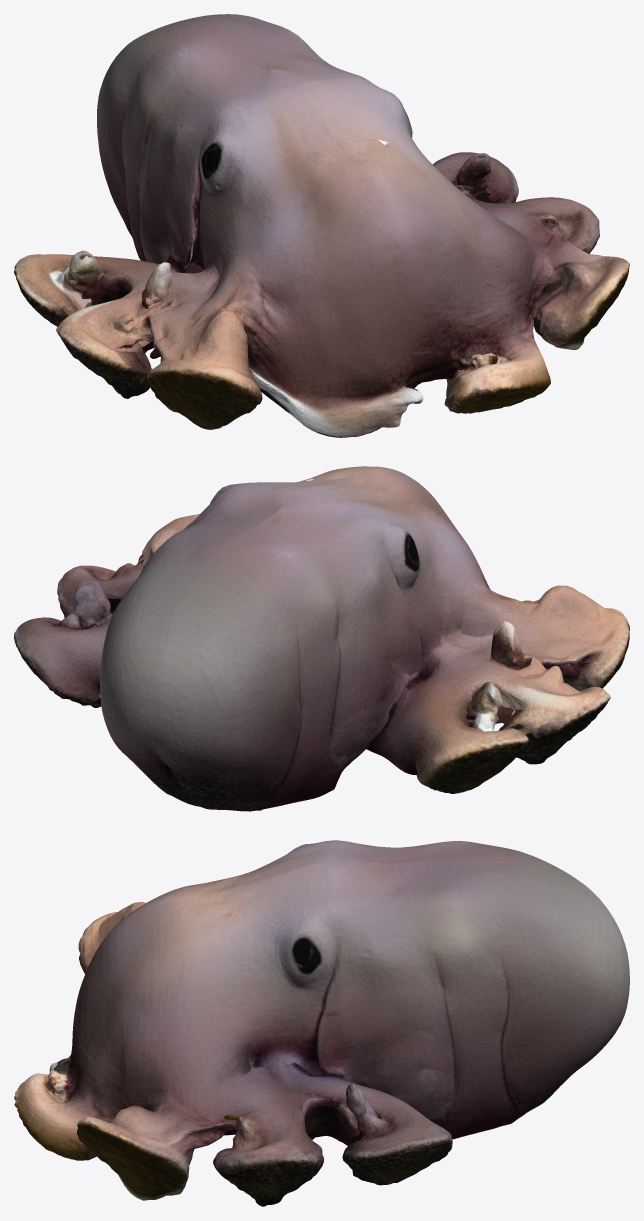
The model's file is paint_mesh_Grimpoteuthis.glb.
The picture shows the model from 3 angles, top to bottom: view 1: azimuth 30°, elevation 25°; view 2: azimuth 150°, elevation 25°; view 3: azimuth 270°, elevation 25°; orthographic projection.
Visible parts, largest first — view 1: world; view 2: world; view 3: world.
Boxes of the visible parts, <box> form: world: <box>14,14,629,437</box>; world: <box>14,466,629,811</box>; world: <box>14,840,629,1206</box>.
Bounding box in the file's own units: 1.99 × 0.9266 × 1.99.
Materials: 1 (1 with a texture image).
